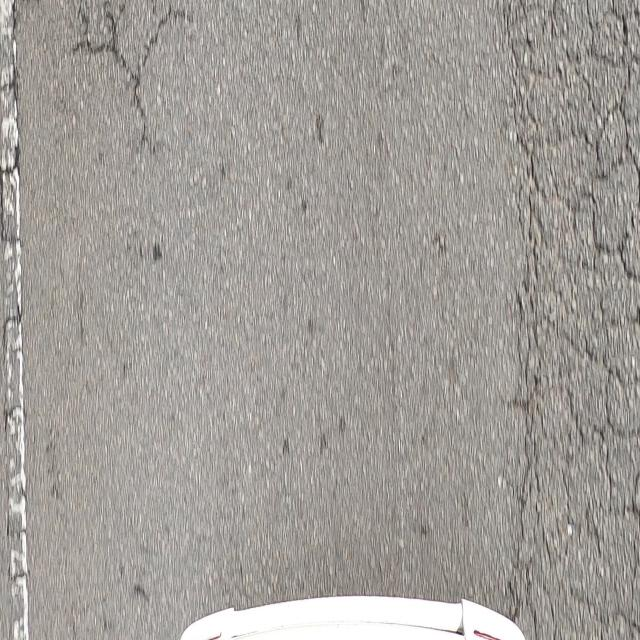Retak-Buaya: (502, 0, 640, 640)
